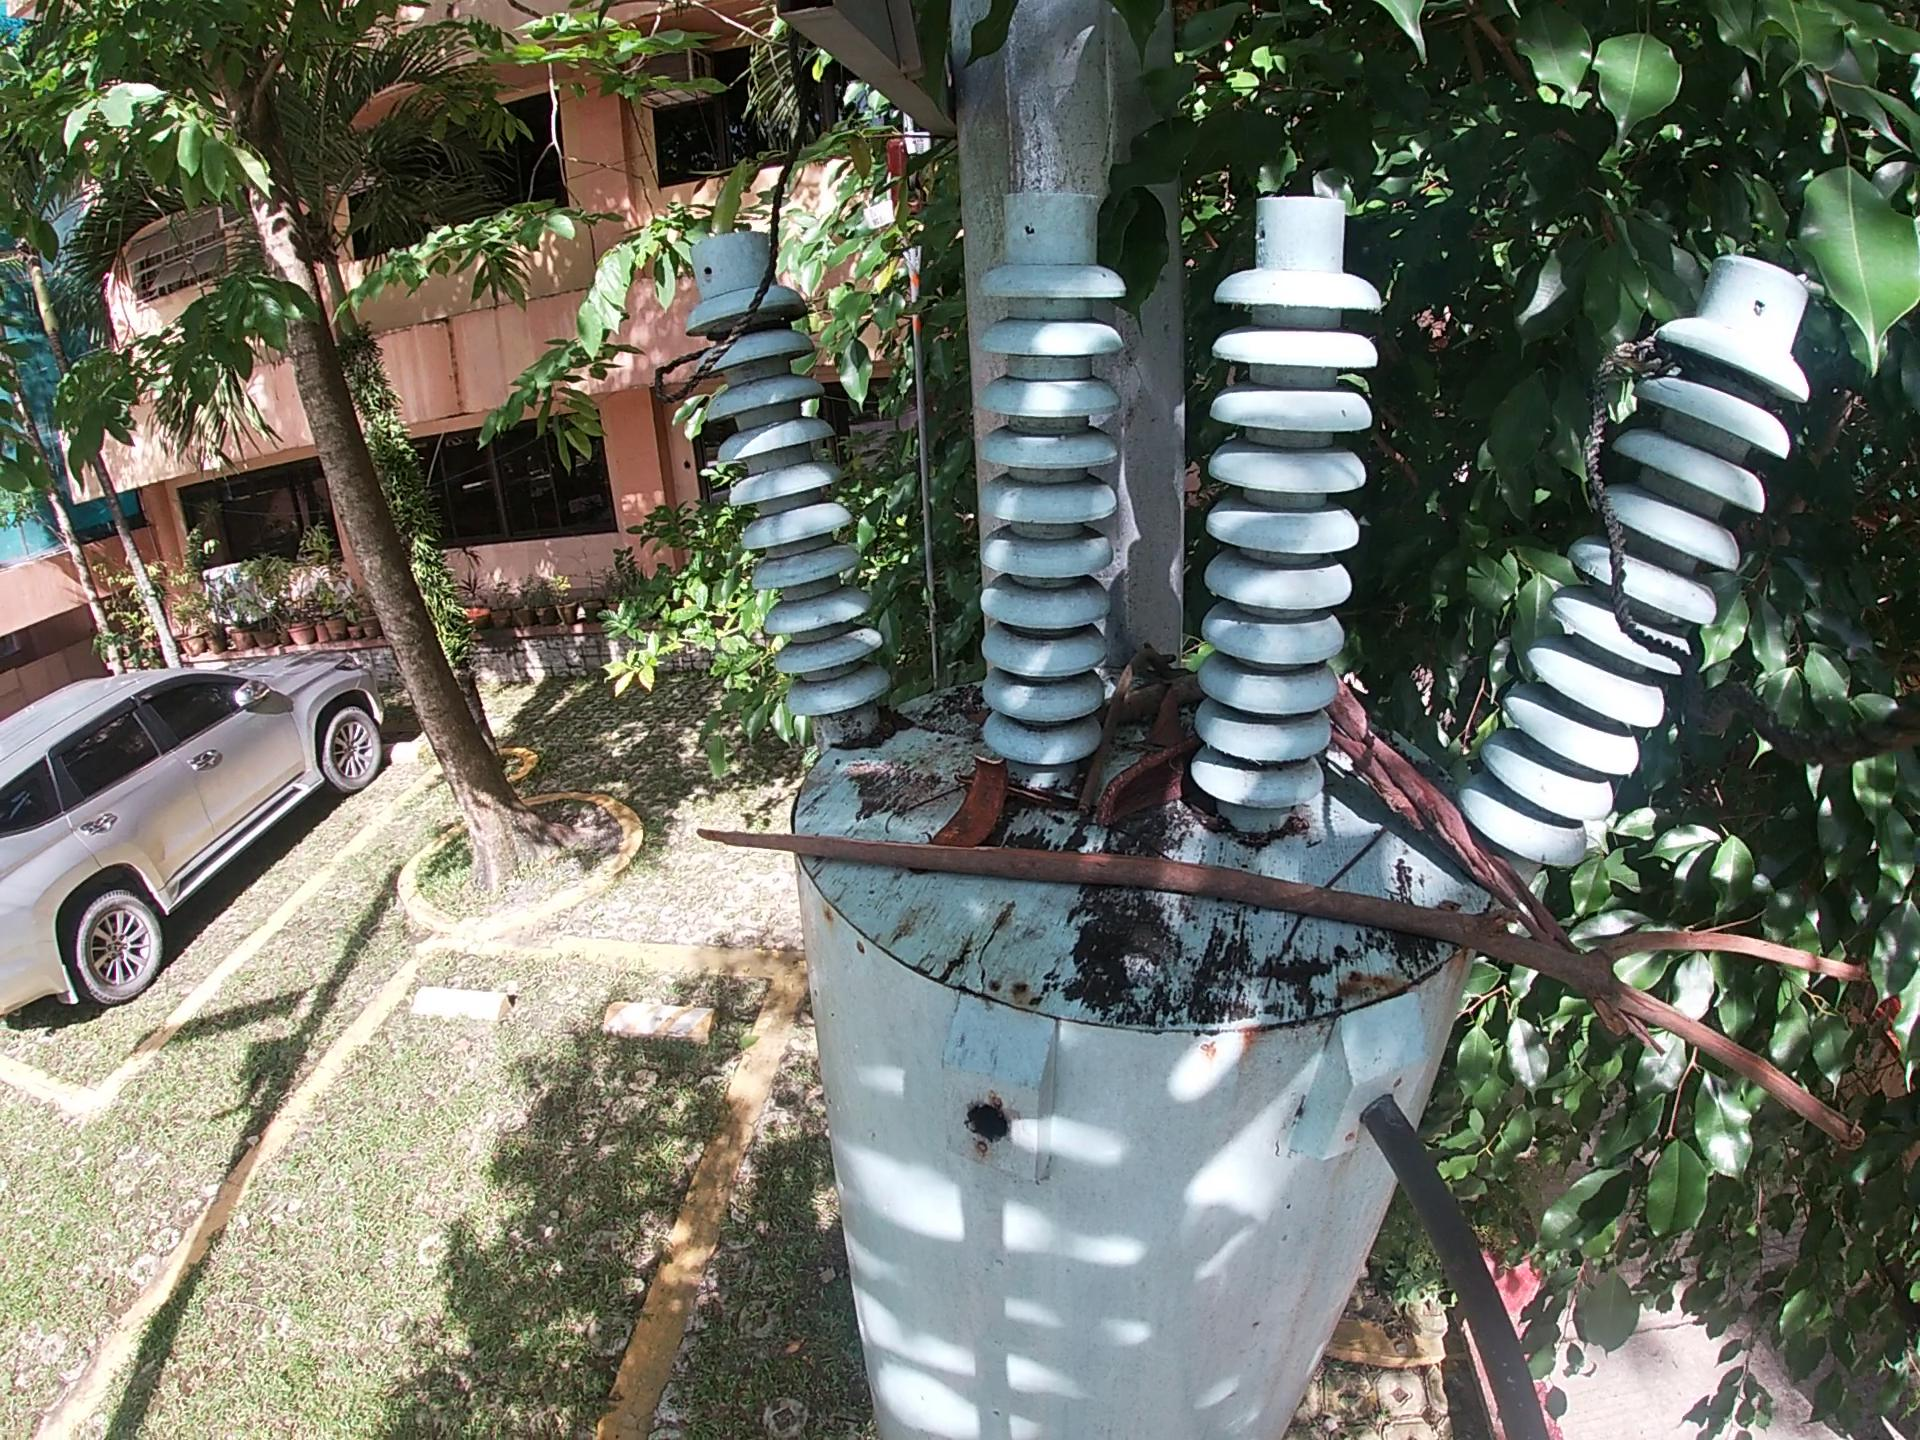leaf: (1144, 679, 1188, 740)
mahogany fruit: (1092, 749, 1196, 838)
tree branch: (697, 827, 1884, 1201), (1336, 688, 1554, 936), (1243, 824, 1386, 1009), (1073, 625, 1181, 829), (1099, 675, 1197, 735), (881, 779, 960, 833), (996, 793, 1067, 812)
